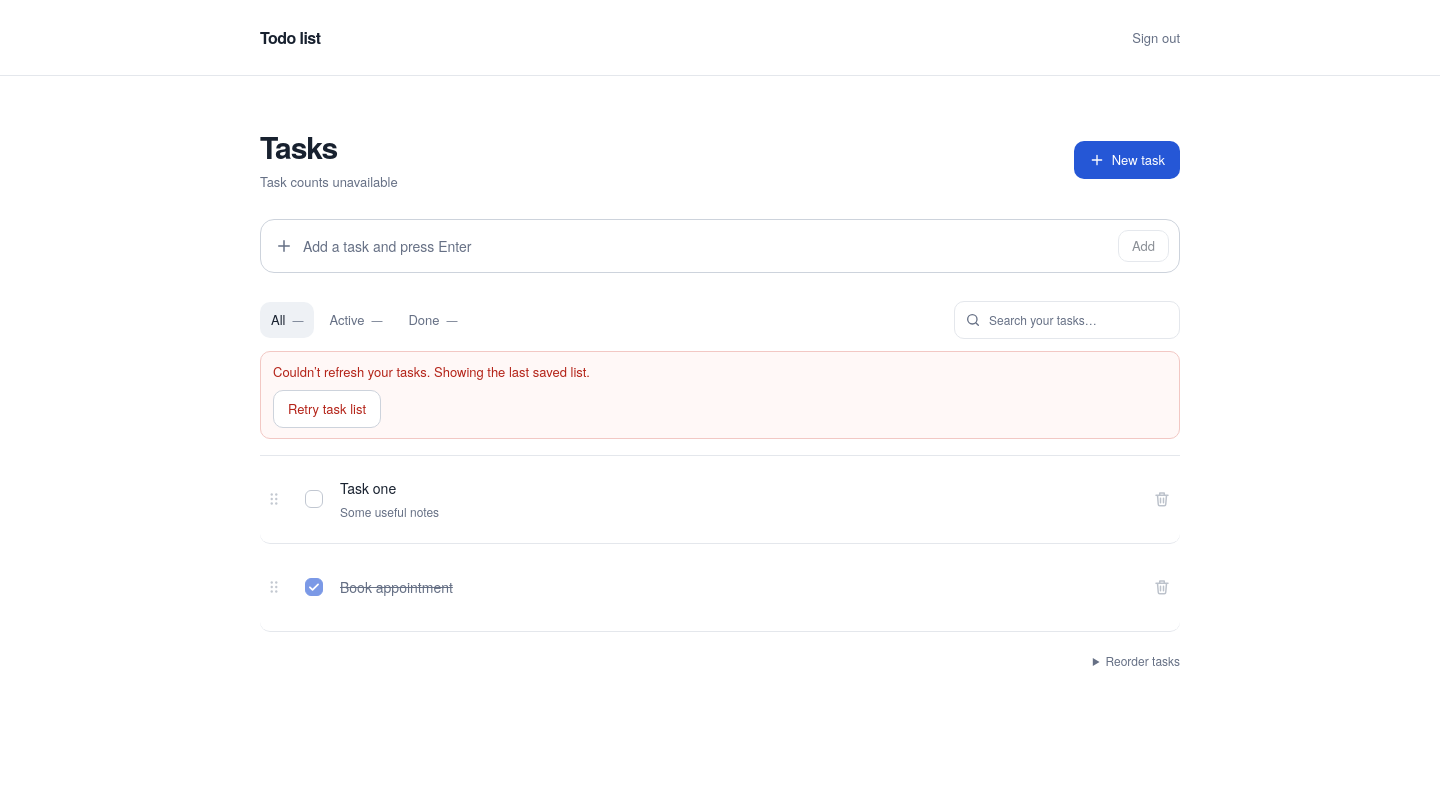
it: task list › preserves the cached list on refresh failure (empty: false) and recovers
This screenshot has width=1440, height=810.
Expected: the text "Task one" is shown, [340, 478, 396, 498]
Expected: the message shows "Showing the last saved list", [273, 362, 590, 381]
Click the button "Retry task list".
click(327, 408)  # box [273, 390, 381, 428]
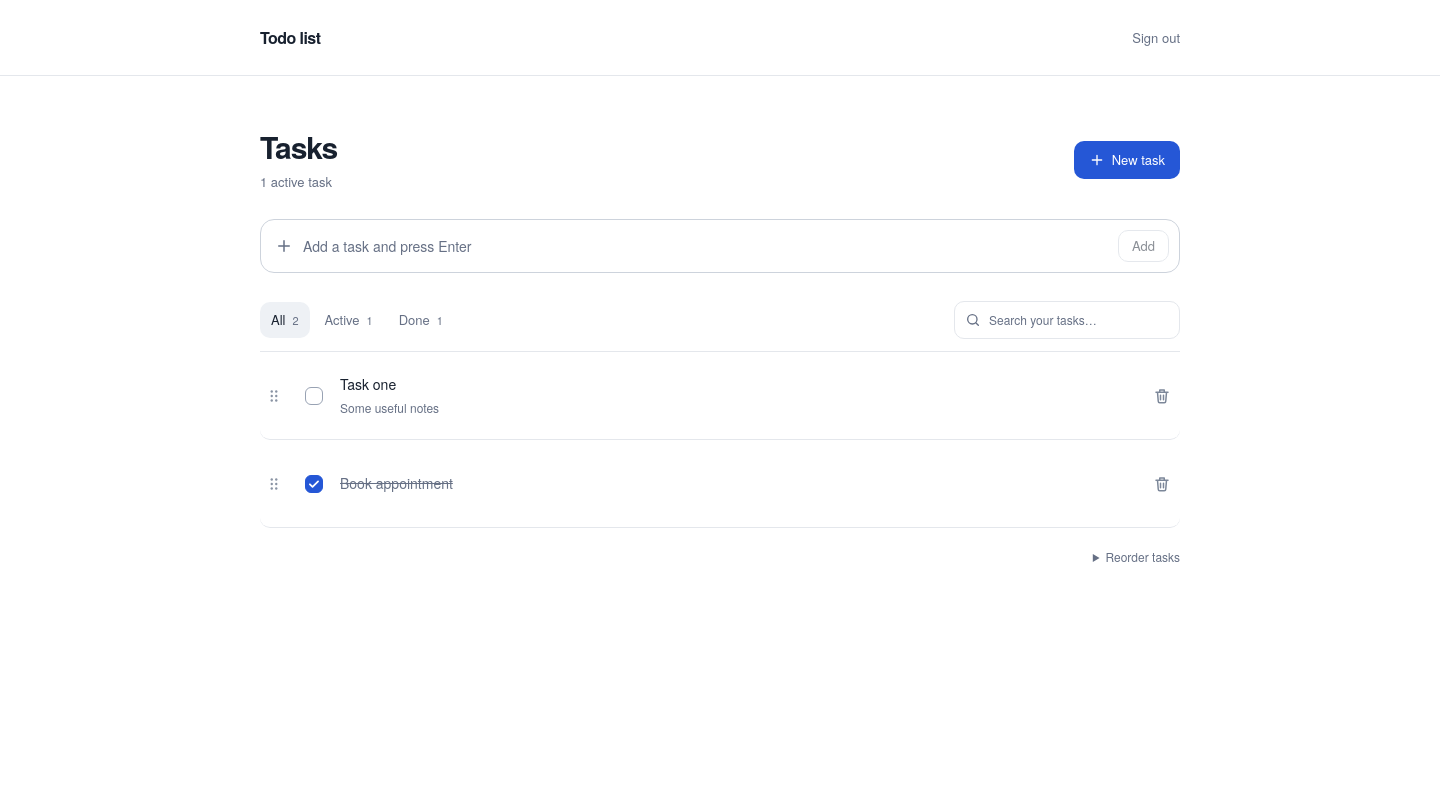
Now the message "Couldn’t refresh your tasks. Showing the last saved list. Retry task list" is gone
Now the text "1 active task" is shown, box [260, 172, 337, 191]
Now the checkbox named "Mark \"Task one\" as done" is enabled, box [305, 386, 323, 404]
